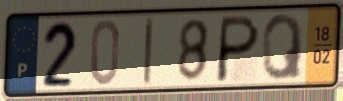0: (88, 18, 122, 88)
2: (37, 16, 82, 93)
8: (175, 16, 212, 84)
I: (141, 15, 156, 89)
P: (212, 12, 263, 85)
Q: (260, 12, 306, 83)
